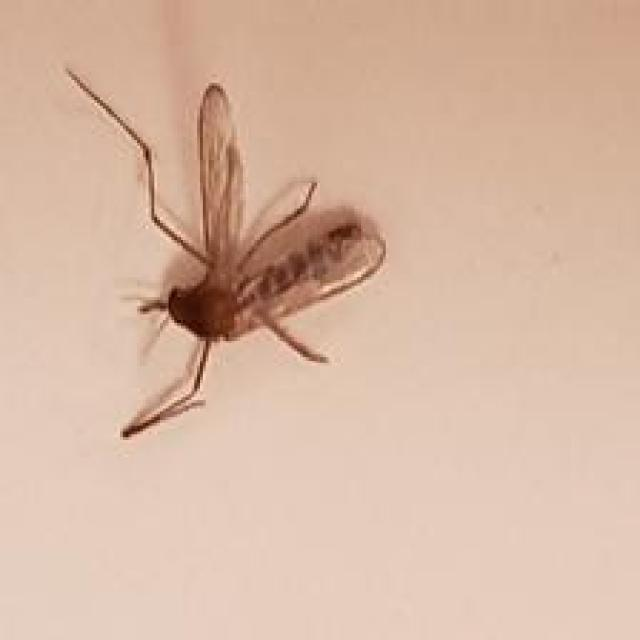Culex: (63, 66, 386, 440)
